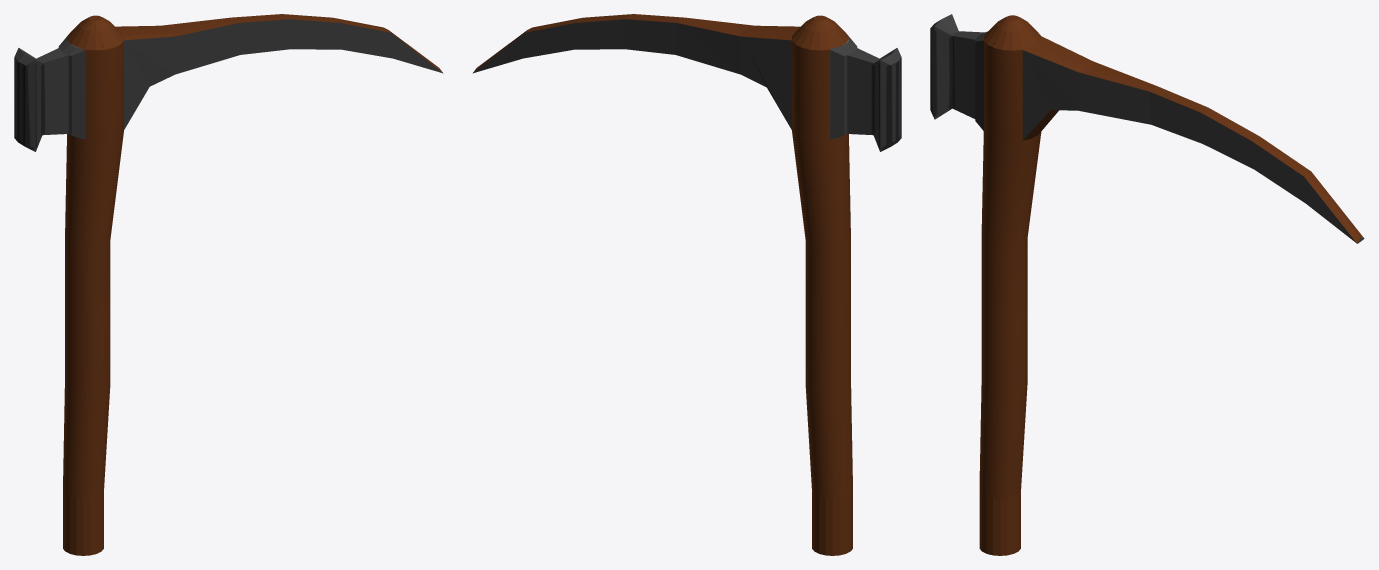
Rendered from PickaxeExported.FBX.
3 renders of one model, left to right at view 1: azimuth 30°, elevation 25°; view 2: azimuth 150°, elevation 25°; view 3: azimuth 330°, elevation 25°, orthographic.
Visible parts, largest first — view 1: Cylinder001; view 2: Cylinder001; view 3: Cylinder001.
Part boxes in pixels (left/top/right/bottom): Cylinder001: left=14, top=14, right=443, bottom=555; Cylinder001: left=472, top=14, right=901, bottom=555; Cylinder001: left=930, top=14, right=1364, bottom=555.
Size of the model in its own units: 82.84 by 98.67 by 9.68.
Materials: 1 (1 with a texture image).
